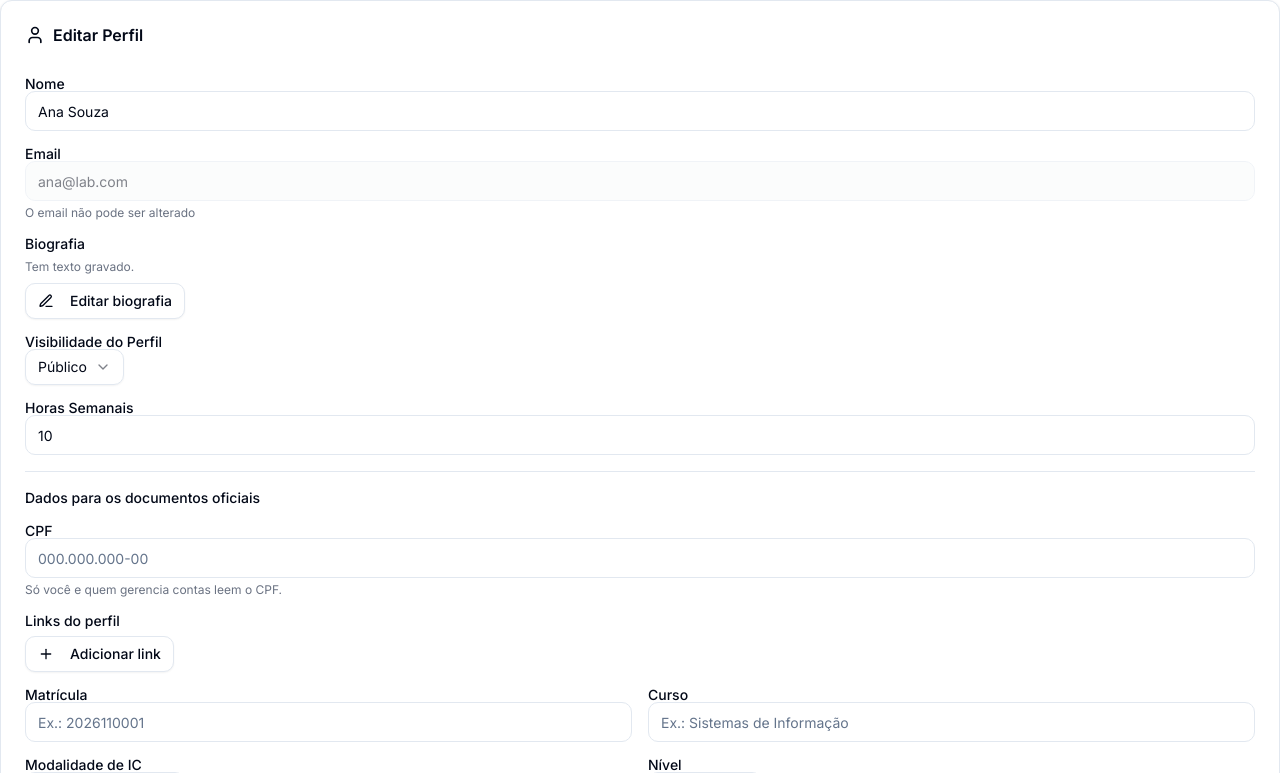
Test: dialog de bio no Configurações › o botão abre o dialog com a bio atual e a preview renderizada
This screenshot has width=1280, height=773.
Click the button "Editar biografia".
click(105, 301)  # box [25, 283, 185, 319]
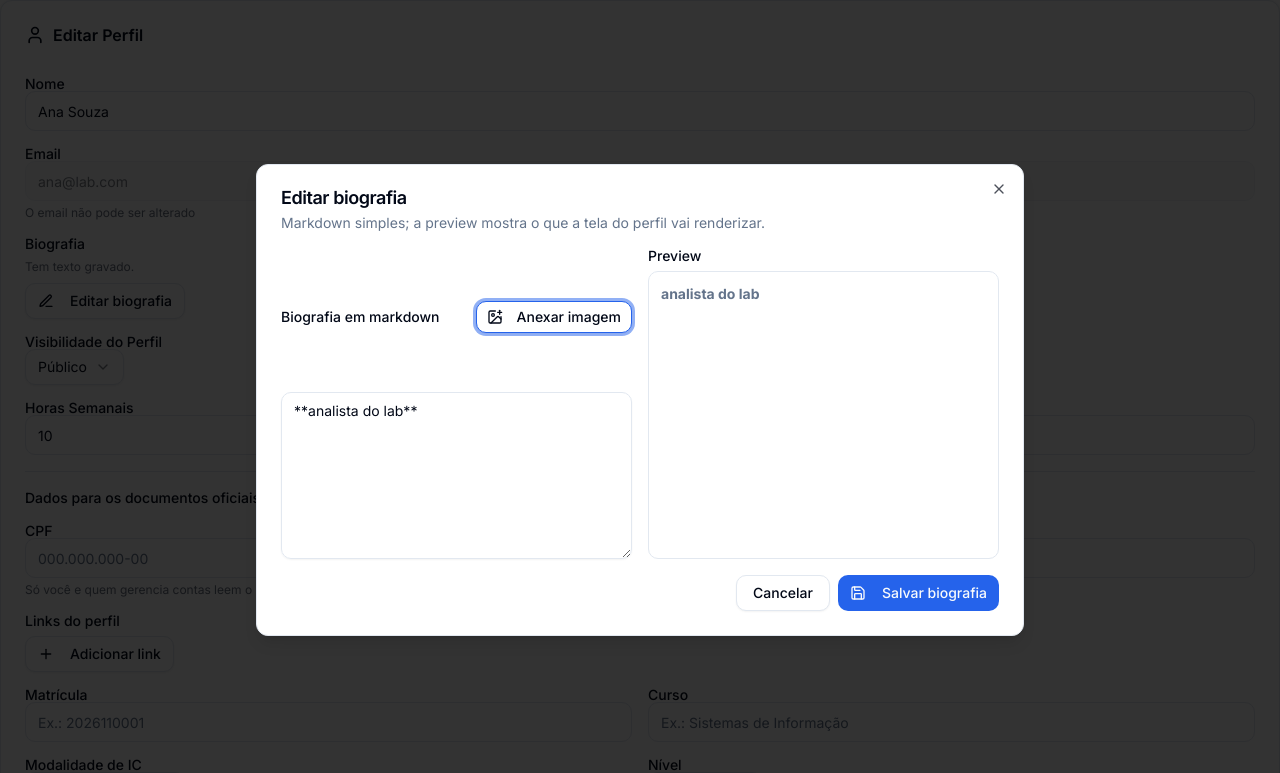
Check: the text box labelled "Biografia em markdown" holds "**analista do lab**", box [281, 392, 632, 559]
Check: the text "analista do lab" is shown, box [661, 285, 760, 302]
